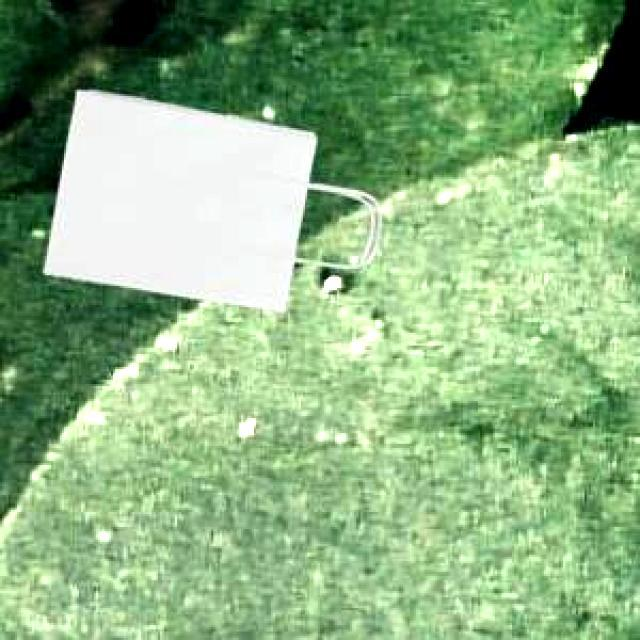Paper_Bag: (39, 86, 378, 308)
